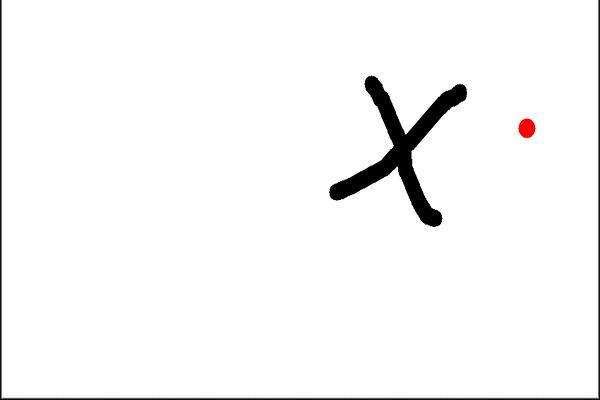X: (316, 59, 487, 244)
